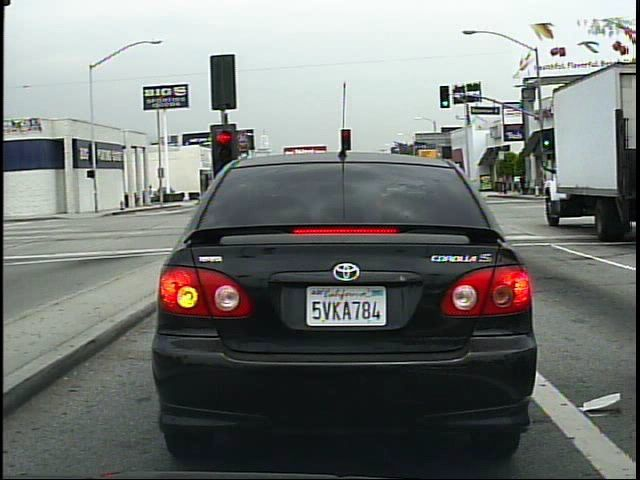person: (518, 170, 528, 196), (150, 181, 152, 209)
